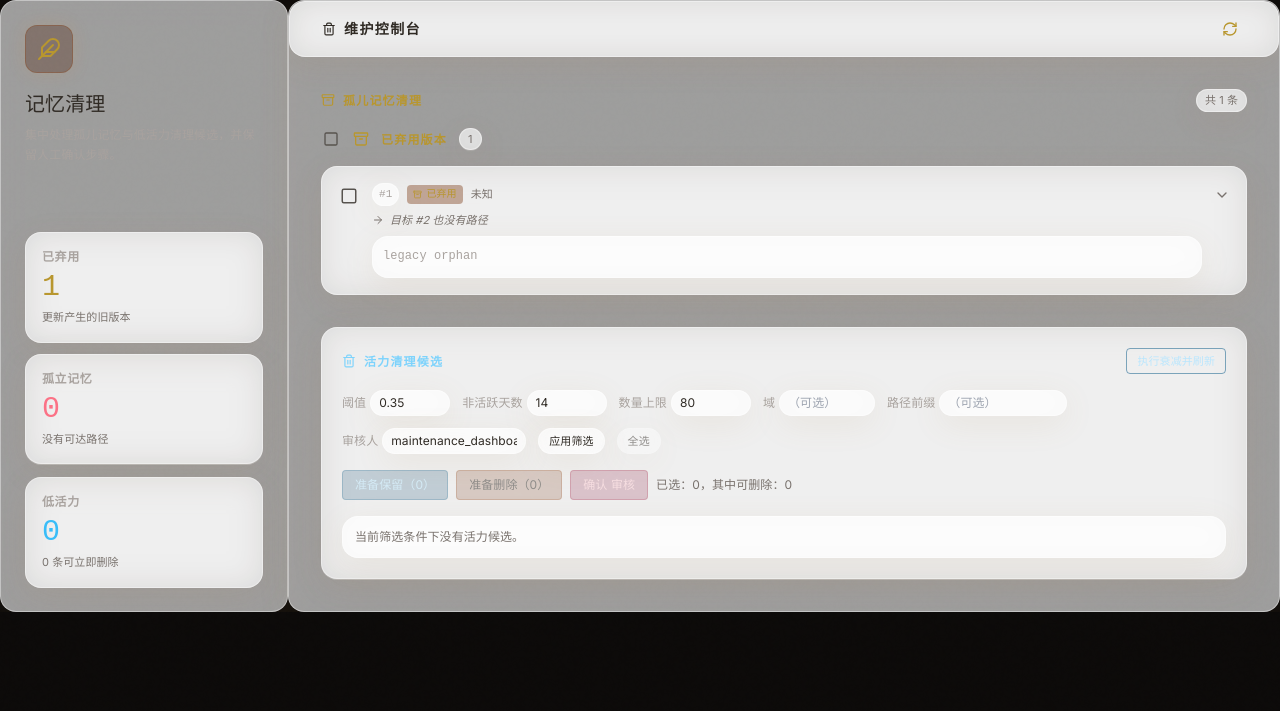
MaintenancePage › handles invalid created_at and migration_target paths without crashing
Expected: the text "未知" is shown, [471,186,493,202]
Click the text "legacy orphan". click: click(787, 257)
box: [372,236,1202,278]
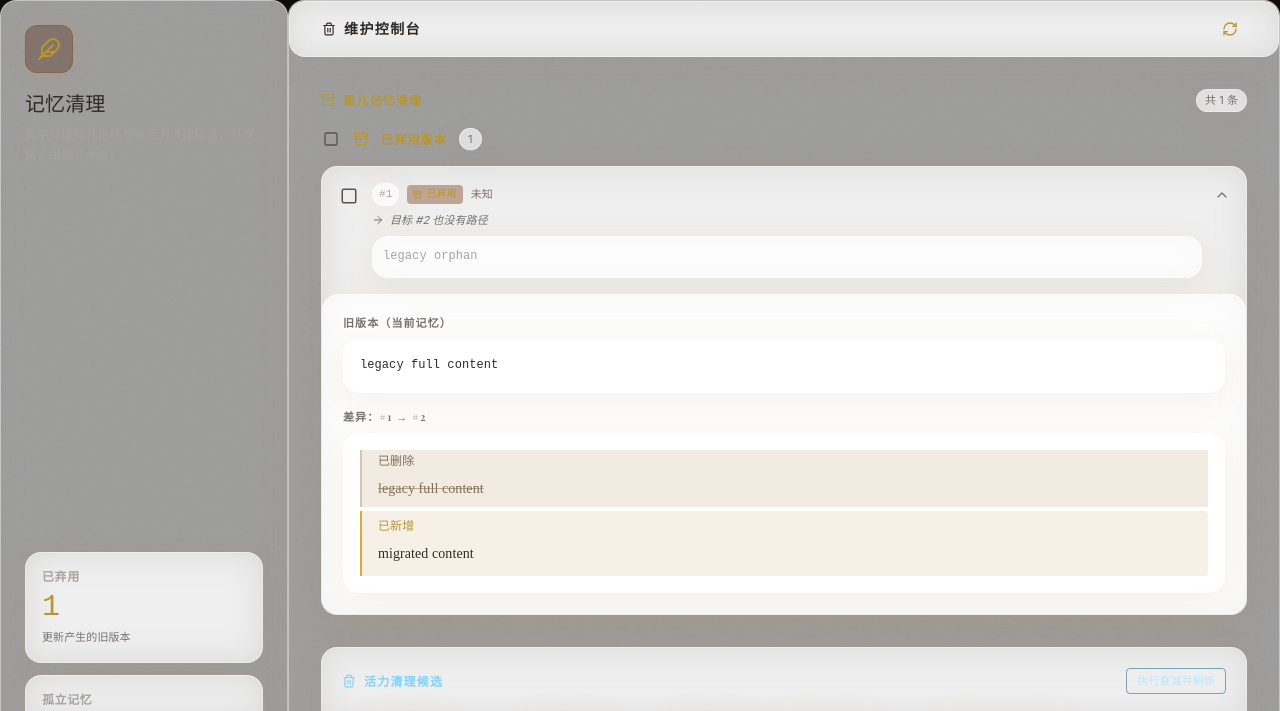
Now the text "legacy full content" below "旧版本（当前记忆）" is shown, box [360,358,498,372]
